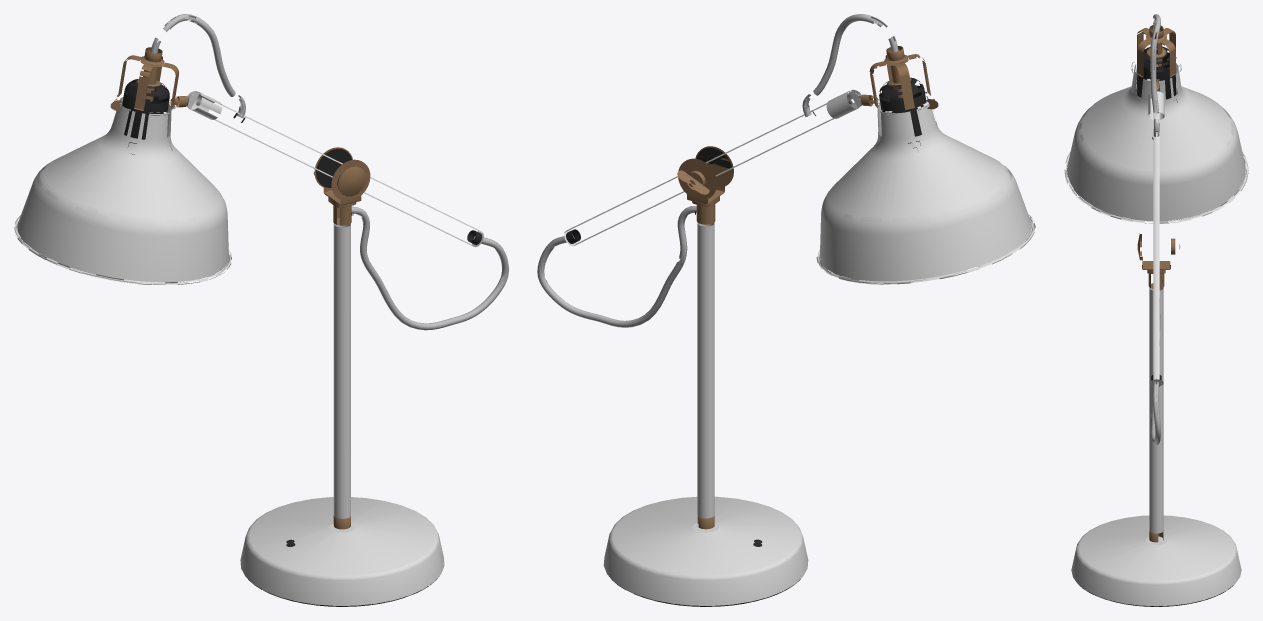
File: SM_PROP_lamp_merged_0_01.glb
3 views of the same model, side by side, from view 1: azimuth 30°, elevation 25°; view 2: azimuth 150°, elevation 25°; view 3: azimuth 270°, elevation 25° (orthographic). The views are drawn at different scales.
Parts seen in each view (by area): view 1: SM_PROP_lamp_merged_0_01; view 2: SM_PROP_lamp_merged_0_01; view 3: SM_PROP_lamp_merged_0_01.
Part boxes in pixels (box(x1,y1,x2,y2)): SM_PROP_lamp_merged_0_01: box(14, 14, 508, 606); SM_PROP_lamp_merged_0_01: box(537, 14, 1035, 606); SM_PROP_lamp_merged_0_01: box(1064, 14, 1248, 606).
Size of the model in its own units: 0.00475 by 0.00555 by 0.00189.
